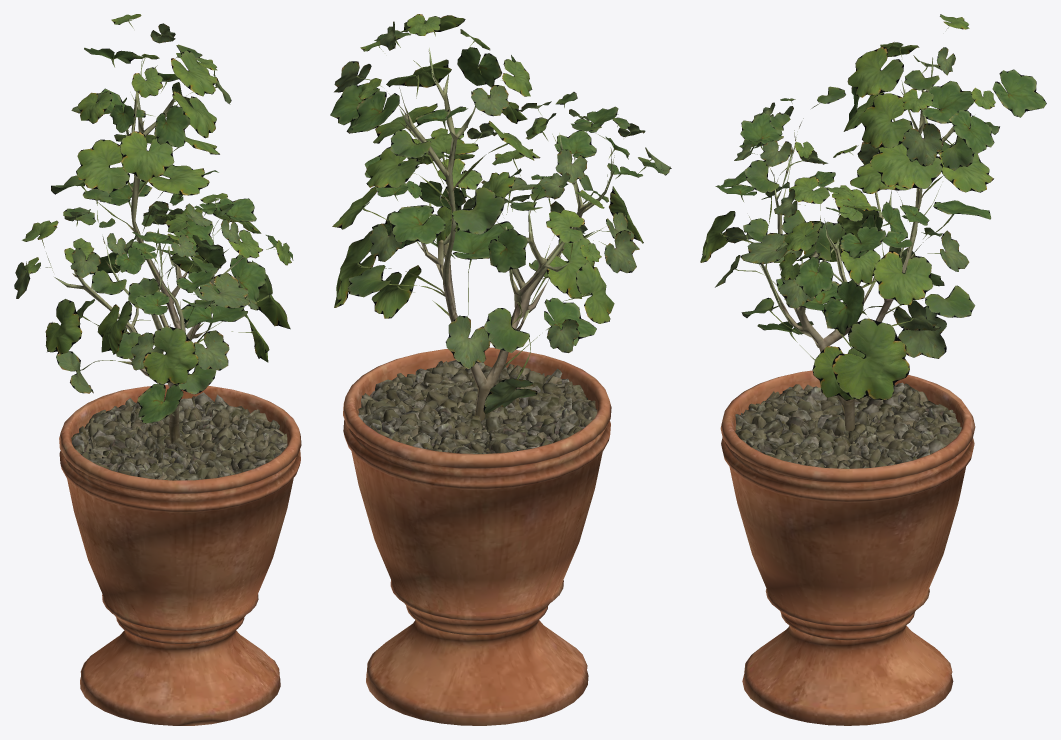
The model's file is potted_plant_01.glb.
3 renders of one model, left to right at view 1: azimuth 30°, elevation 25°; view 2: azimuth 150°, elevation 25°; view 3: azimuth 270°, elevation 25°, orthographic. The views are drawn at different scales.
Visible parts, largest first — view 1: potted_plant_01_pot, potted_plant_01_leaves, potted_plant_01_pebbles, potted_plant_01_stem; view 2: potted_plant_01_pot, potted_plant_01_leaves, potted_plant_01_pebbles, potted_plant_01_stem; view 3: potted_plant_01_pot, potted_plant_01_leaves, potted_plant_01_pebbles, potted_plant_01_stem.
Boxes of the visible parts, box(x1,y1,x2,y2) form: potted_plant_01_pot: box(59, 384, 301, 725); potted_plant_01_leaves: box(14, 14, 293, 423); potted_plant_01_pebbles: box(71, 392, 287, 480); potted_plant_01_stem: box(54, 58, 244, 443); potted_plant_01_pot: box(343, 347, 611, 725); potted_plant_01_leaves: box(330, 14, 671, 413); potted_plant_01_pebbles: box(358, 360, 597, 453); potted_plant_01_stem: box(399, 48, 612, 421); potted_plant_01_pot: box(720, 370, 975, 725); potted_plant_01_leaves: box(700, 14, 1046, 400); potted_plant_01_pebbles: box(735, 382, 961, 468); potted_plant_01_stem: box(760, 57, 954, 432).
Bounding box in the file's own units: 0.5866 × 1.34 × 0.6336.
2 materials, 2 textured.
